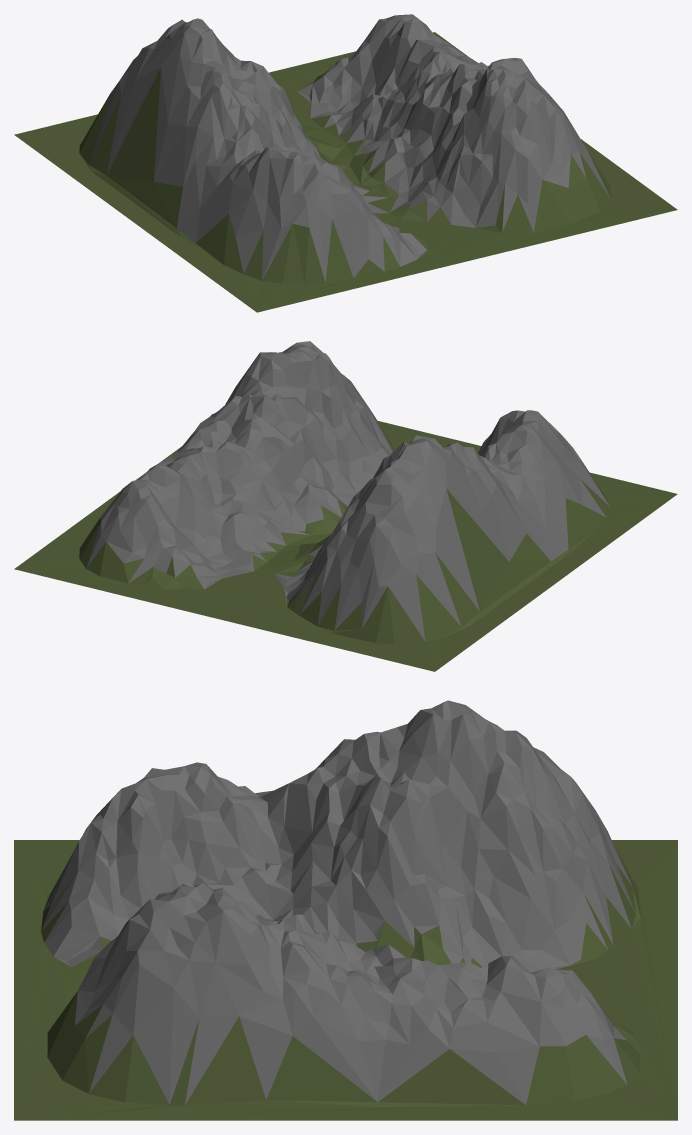
Rendered from Terrain_07.fbx.
The picture shows the model from 3 angles, top to bottom: view 1: azimuth 30°, elevation 25°; view 2: azimuth 150°, elevation 25°; view 3: azimuth 270°, elevation 25°; orthographic projection. The views are drawn at different scales.
Parts seen in each view (by area): view 1: Terrain_07; view 2: Terrain_07; view 3: Terrain_07.
Part boxes in pixels (left/top/right/bottom): Terrain_07: left=14, top=14, right=677, bottom=312; Terrain_07: left=14, top=341, right=677, bottom=671; Terrain_07: left=14, top=700, right=677, bottom=1120.
Size of the model in its own units: 20000 by 6693 by 20000.
